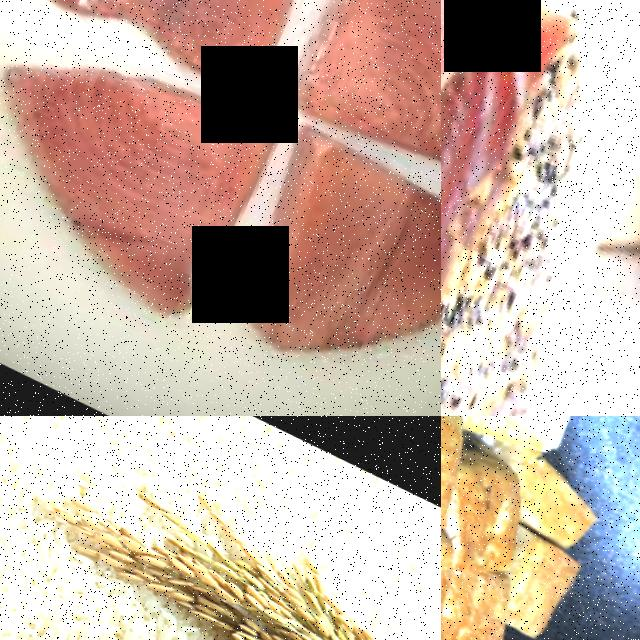tofu: (481, 507, 598, 636), (441, 416, 591, 453)
tuna: (0, 0, 295, 331), (211, 105, 441, 416), (441, 0, 609, 416), (8, 0, 353, 102), (278, 0, 441, 205)
